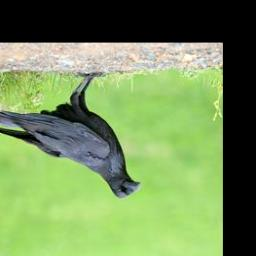Crow: (0, 71, 142, 200)
